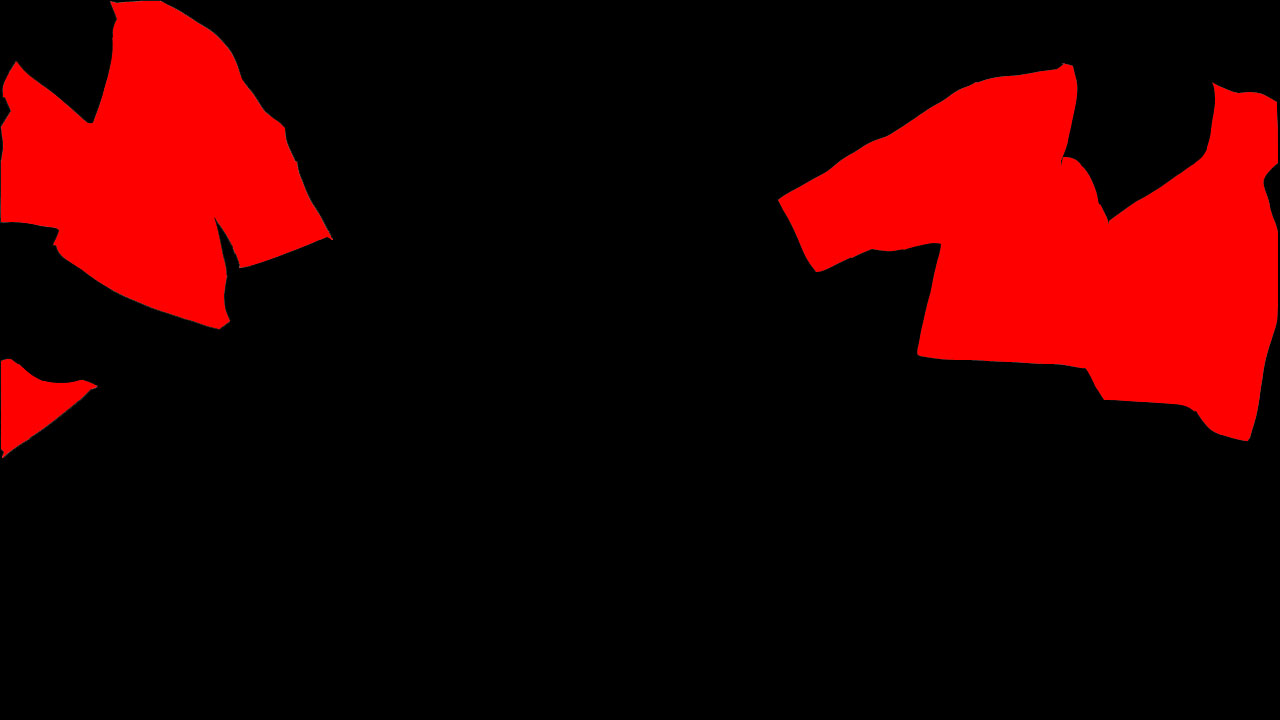uniforme_ifmt: (775, 64, 1280, 446), (6, 2, 341, 449)
